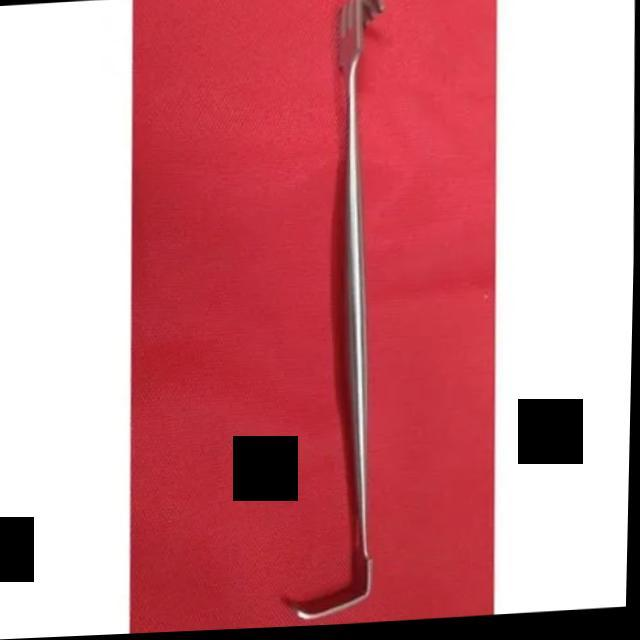Senn Retractor: (265, 0, 415, 627)
